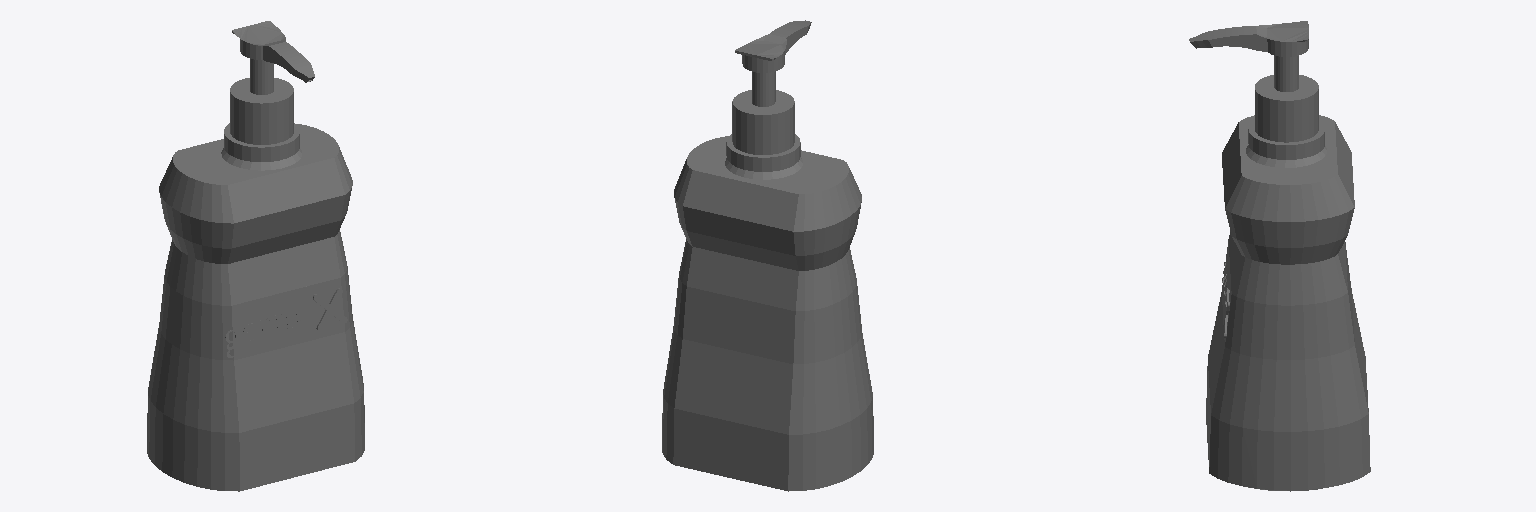
The robot description file, URDF, robot "object":
<?xml version="1.0"?>
<robot name="object">
  <link name="object">
    <visual>
      <origin xyz="0 0 0"/>
      <geometry>
        <mesh
          filename="../../mesh/oakink_virtual/lotion_pump_s102.stl" />
      </geometry>
      <material name="mat">
        <color rgba="0.5 0.5 0.5 1"/>
      </material>
    </visual>

    <collision>
      <origin xyz="0 0 0"/>
      <geometry>
        <mesh
          filename="../../mesh/oakink_virtual/lotion_pump_s102.stl" />
      </geometry>
    </collision>
  </link>
</robot>

--- What the picture shows (computed from the rendered views, not written in the file) ---
Views: 3 orthographic renders of the robot side by side, from view 1: azimuth 30°, elevation 25°; view 2: azimuth 150°, elevation 25°; view 3: azimuth 270°, elevation 25°.
Model object with 1 links and 0 joints (none), rooted at object, posed every joint at zero.
Links seen in each view (by area): view 1: object; view 2: object; view 3: object.
Link boxes in pixels (x1,y1,x2,y2): object: (147, 21, 364, 491); object: (662, 20, 873, 491); object: (1189, 21, 1370, 491).
Size in the robot's own frame: 0.1089 by 0.0894 by 0.2299 metres.
Meshes: 1 distinct files referenced, 1 mesh visuals loaded (1 binary STL).